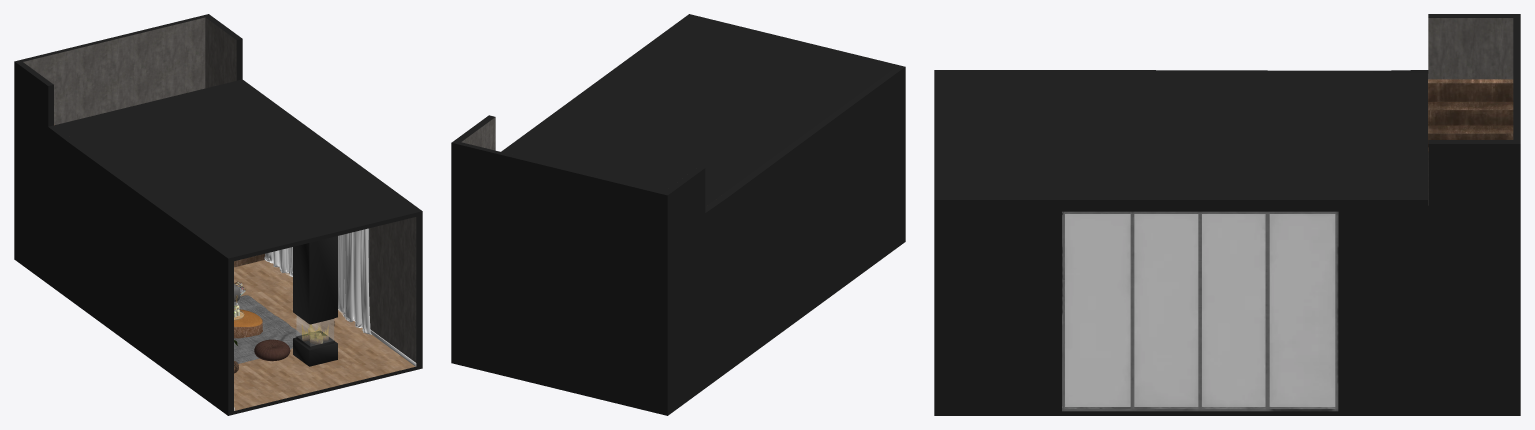
File: modern_living_room.min.glb
3 renders of one model, left to right at view 1: azimuth 30°, elevation 25°; view 2: azimuth 150°, elevation 25°; view 3: azimuth 270°, elevation 25°, orthographic. The views are drawn at different scales.
Parts seen in each view (by area): view 1: Plane, Ceiling, Fireplace, Curtain, Rug, Window, FloorPillow, WoodCoffeTable; view 2: Plane, Ceiling; view 3: Plane, Ceiling, Window, Cube.001.
Part boxes in pixels (x1=…): Plane: x1=14, y1=14, x2=422, y2=415; Ceiling: x1=54, y1=79, x2=422, y2=262; Fireplace: x1=293, y1=236, x2=337, y2=366; Curtain: x1=264, y1=228, x2=371, y2=334; Rug: x1=234, y1=295, x2=301, y2=363; Window: x1=288, y1=228, x2=369, y2=315; FloorPillow: x1=254, y1=339, x2=290, y2=361; WoodCoffeTable: x1=234, y1=309, x2=262, y2=338; Plane: x1=451, y1=71, x2=905, y2=415; Ceiling: x1=501, y1=14, x2=905, y2=206; Plane: x1=934, y1=14, x2=1520, y2=415; Ceiling: x1=934, y1=70, x2=1427, y2=205; Window: x1=1062, y1=211, x2=1338, y2=411; Cube.001: x1=1428, y1=79, x2=1513, y2=152.
Bounding box in the file's own units: 6.12 × 5.96 × 11.65.
45 materials, 33 textured.
